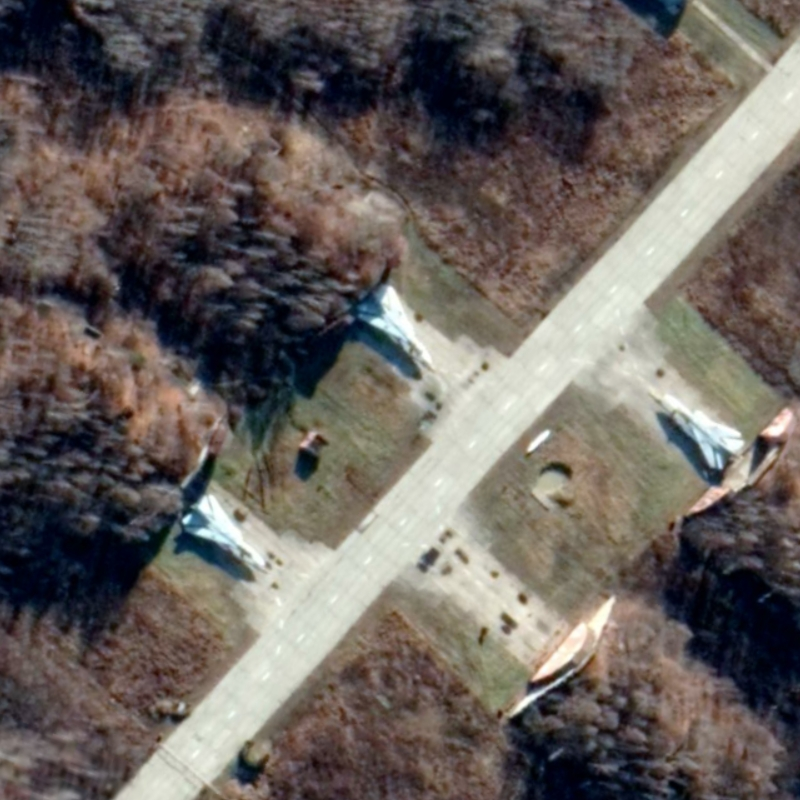A20: (645, 387, 747, 473), (353, 281, 441, 374), (179, 492, 271, 576)
